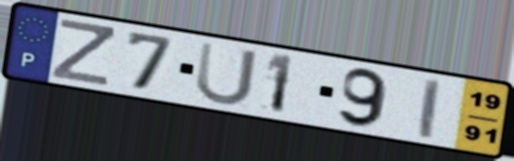1: (264, 52, 296, 117)
7: (123, 29, 180, 94)
9: (336, 67, 393, 129)
I: (417, 76, 443, 142)
U: (193, 39, 261, 108)
Z: (49, 16, 117, 88)
